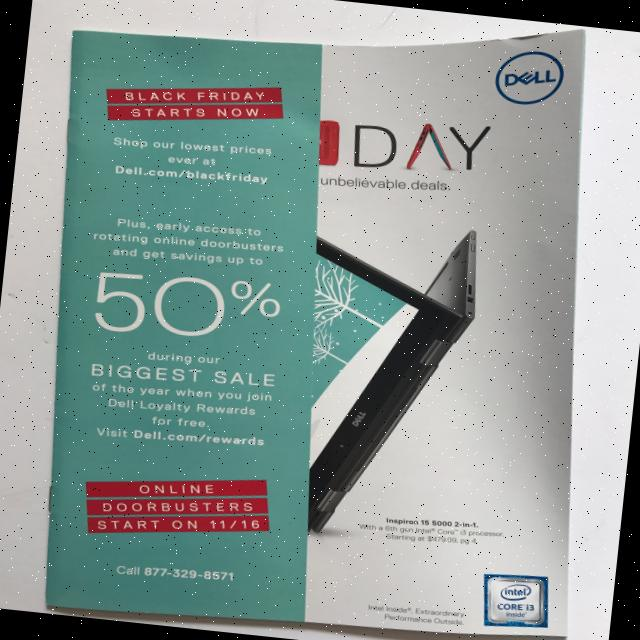paper: (8, 0, 629, 640)
